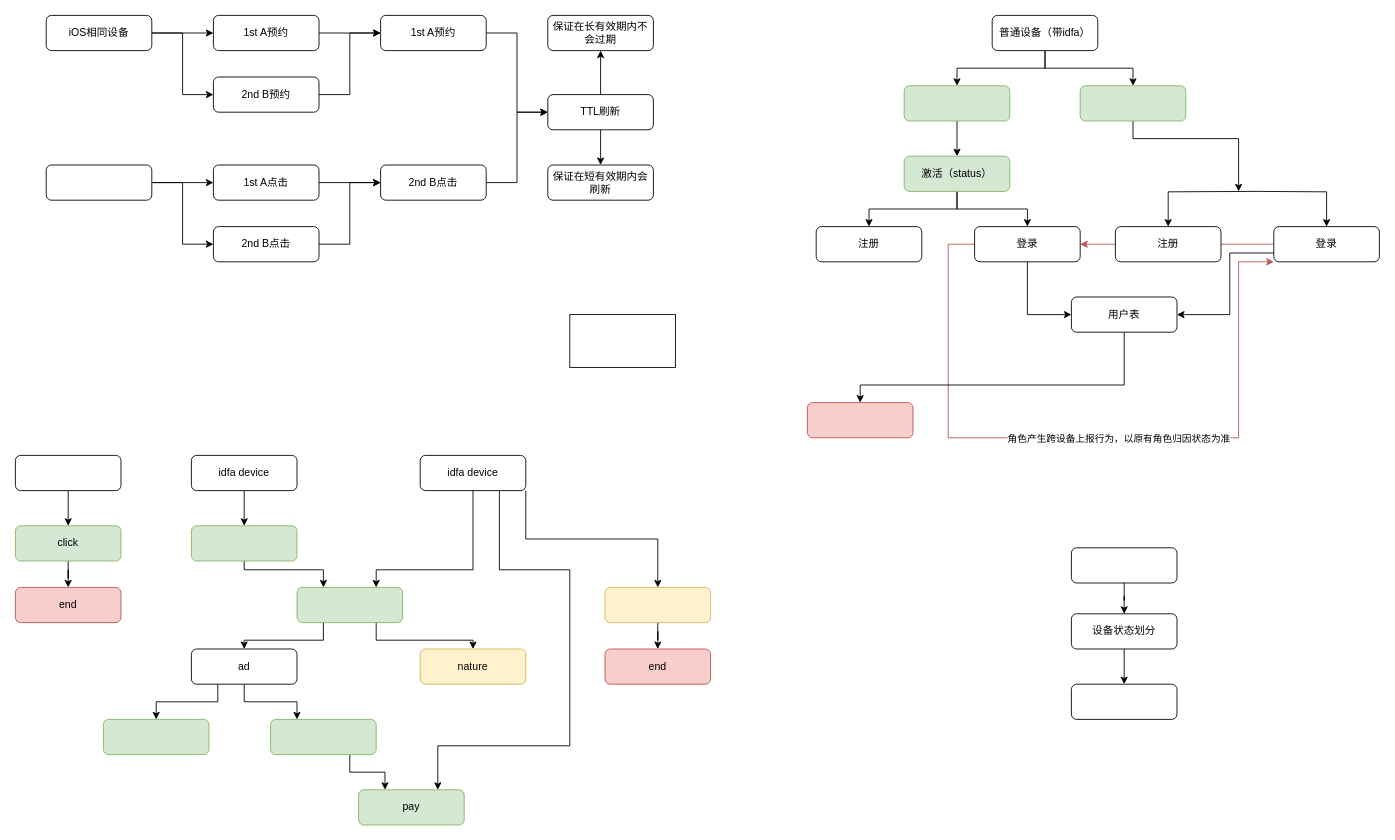
The diagram is 1395 pixels wide and 840 high, and some of its shapes have lost their labels. The shapes that lost their labels are listed below. From the top down, each one's centre as x and y in pixels, then its label:
At pixel 956 103: "预约带Adid（status）".
At pixel 1132 103: "自然量激活（status）".
At pixel 98 182: "Android相同设备".
At pixel 622 340: "asdasdsa".
At pixel 860 420: "用户付费".
At pixel 68 473: "no idfa device".
At pixel 244 543: "idfa click".
At pixel 1124 565: "设备带idfa".
At pixel 349 605: "app start (adid)".
At pixel 657 605: "app start (no adid)".
At pixel 1124 701: "用户状态".
At pixel 156 737: "register".
At pixel 323 737: "login".
